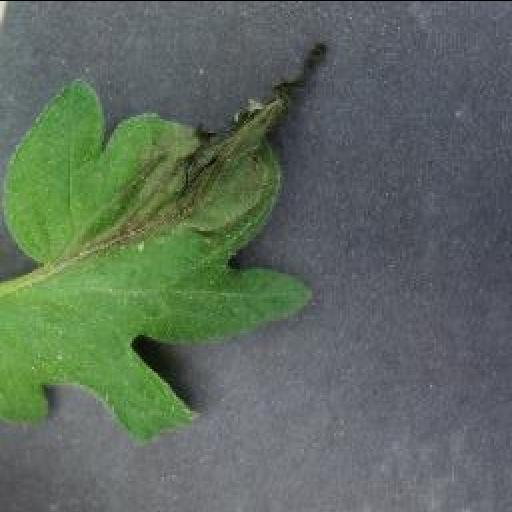disease_tomato: (0, 42, 328, 440)
